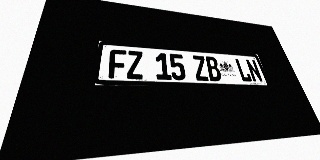1: (154, 52, 172, 80)
5: (169, 53, 187, 80)
B: (204, 56, 223, 81)
F: (108, 49, 126, 79)
L: (234, 58, 253, 82)
N: (245, 59, 264, 82)
Z: (191, 55, 210, 81), (127, 50, 144, 79)
